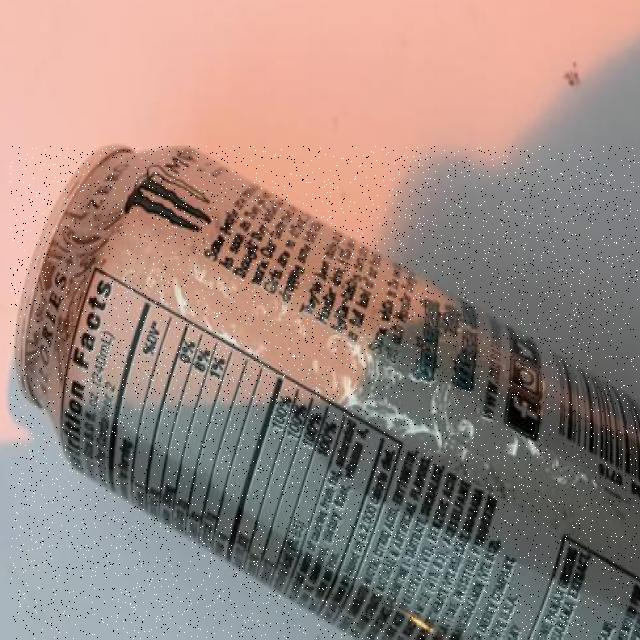metal: (11, 147, 640, 639)
